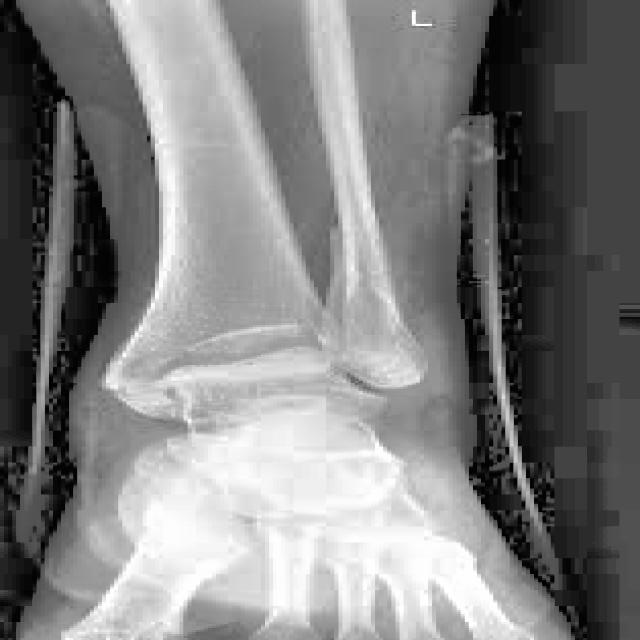Fracture Dislocation: (324, 318, 436, 395)
